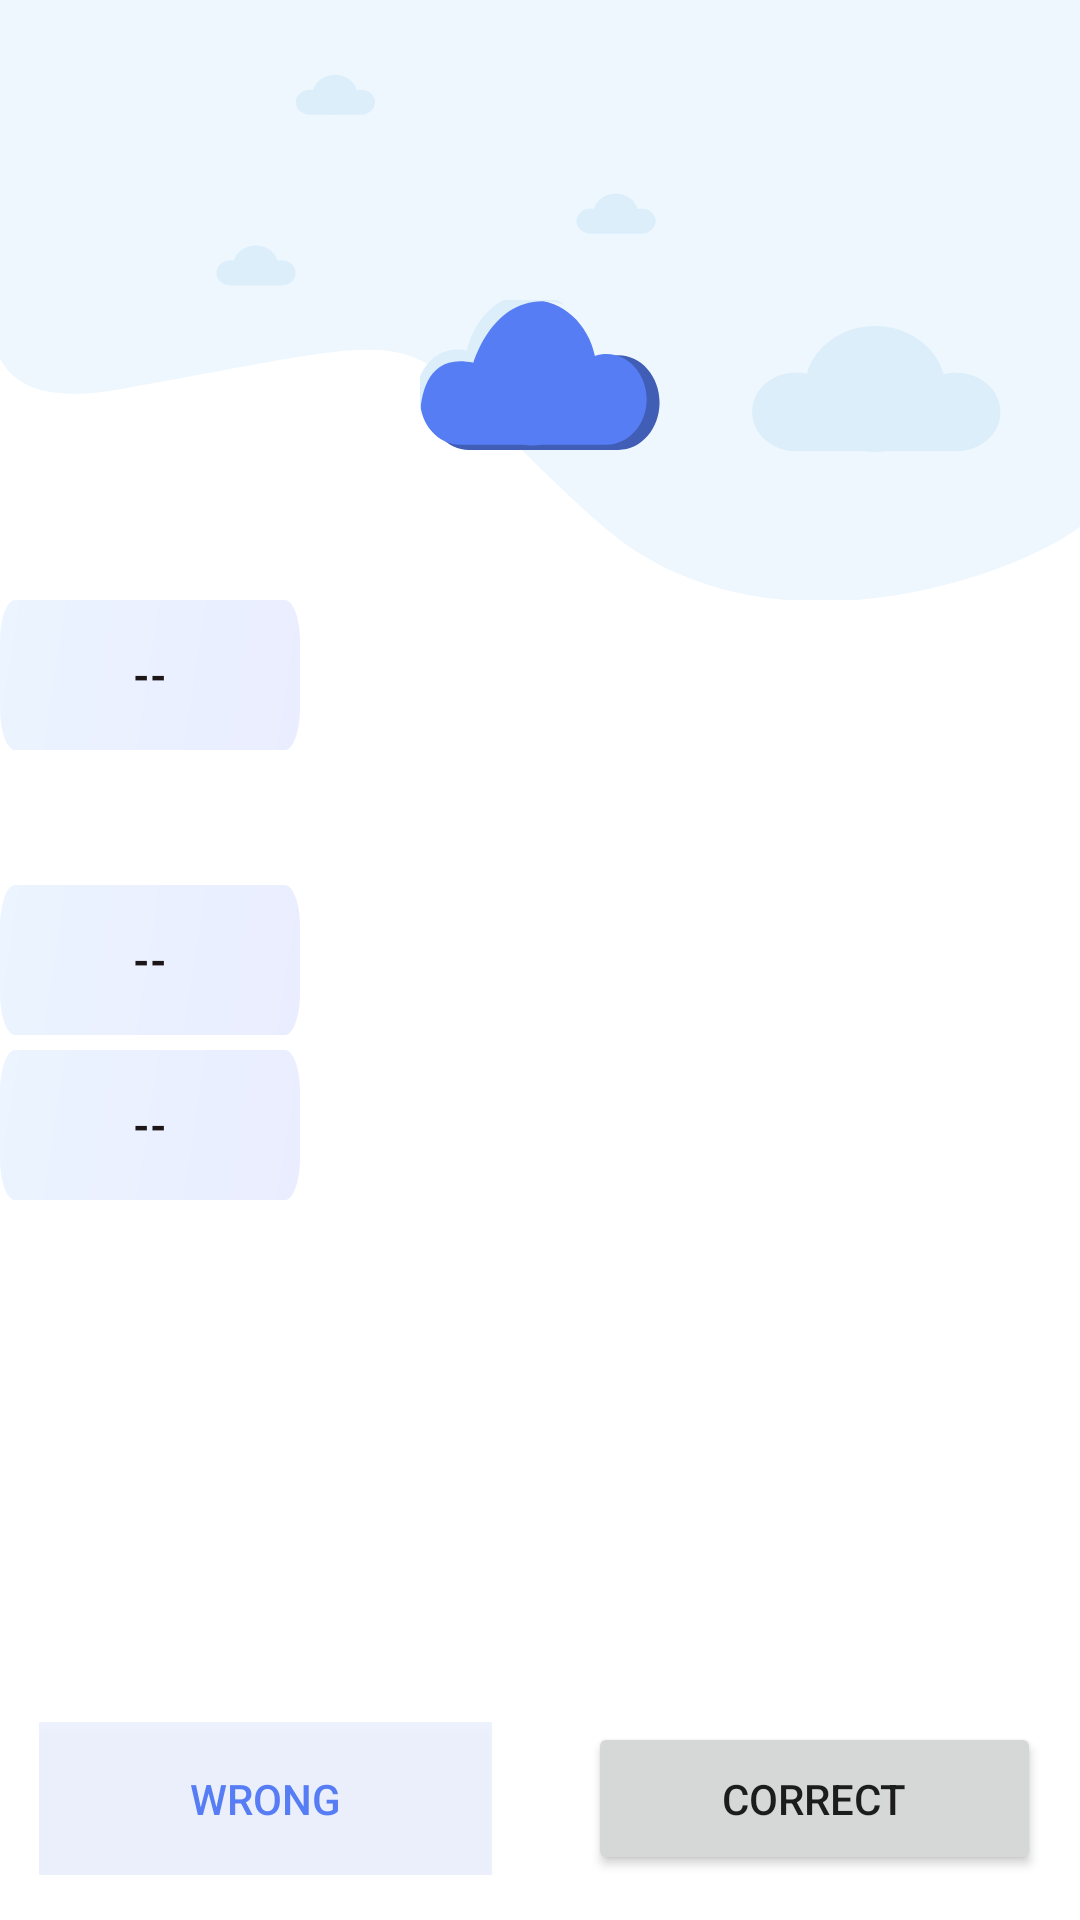

Named icons in this screenshot (1080×1920) and their bounding boxes, [x1=x1, y1=y1, x2=x2, y2=y2]:
cloud: [x1=420, y1=301, x2=660, y2=450]
